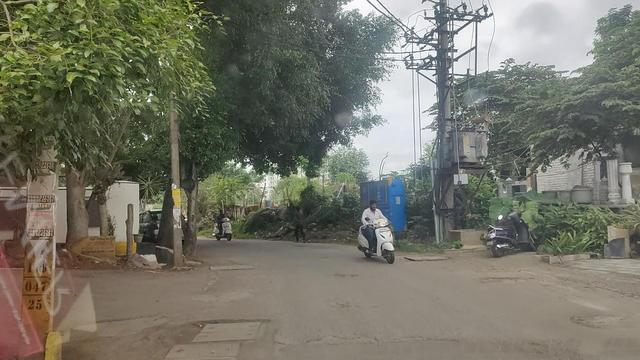LMV: (360, 197, 406, 267)
RoadDamages: (177, 310, 271, 360), (576, 306, 640, 337), (476, 264, 530, 288)
